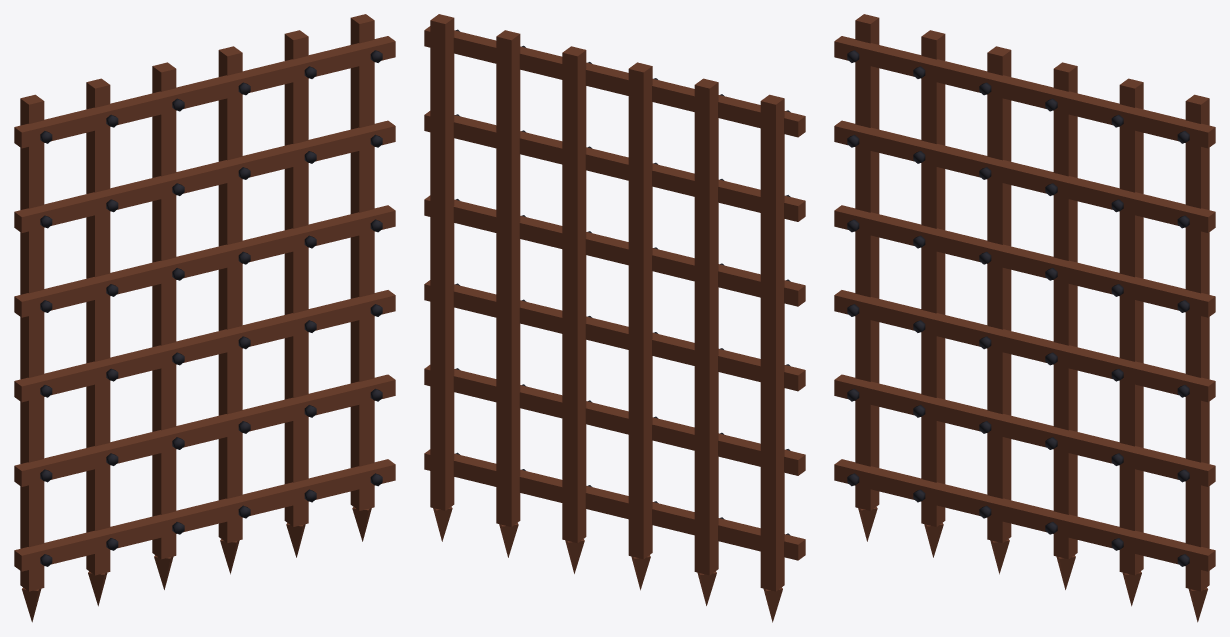
The model's file is portcullis.glb.
The picture shows the model from 3 angles, left to right: view 1: azimuth 30°, elevation 25°; view 2: azimuth 150°, elevation 25°; view 3: azimuth 330°, elevation 25°; orthographic projection.
Parts seen in each view (by area): view 1: portcullis; view 2: portcullis; view 3: portcullis.
Part boxes in pixels (<box>): portcullis: <box>14,14,395,622</box>; portcullis: <box>424,14,805,622</box>; portcullis: <box>834,14,1215,622</box>.
Size of the model in its own units: 0.86 by 1.15 by 0.086.
